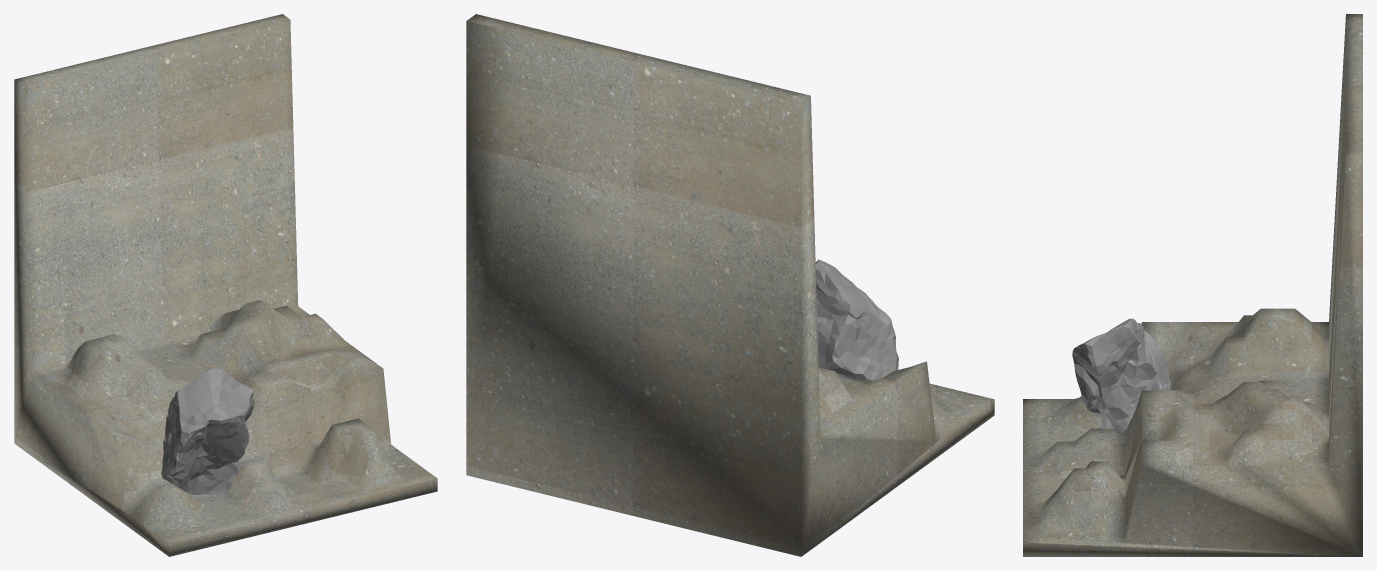
File: right4.fbx
3 renders of one model, left to right at view 1: azimuth 30°, elevation 25°; view 2: azimuth 150°, elevation 25°; view 3: azimuth 270°, elevation 25°, orthographic. The views are drawn at different scales.
Parts seen in each view (by area): view 1: Model, skp59B9_1; view 2: Model, skp59B9_1; view 3: Model, skp59B9_1.
Part boxes in pixels (x1,y1,x2,y2): Model: (14, 14, 437, 556); skp59B9_1: (161, 368, 254, 494); Model: (466, 14, 994, 556); skp59B9_1: (815, 259, 898, 380); Model: (1023, 14, 1362, 556); skp59B9_1: (1072, 318, 1170, 432).
Size of the model in its own units: 1000 by 1319 by 1000.
